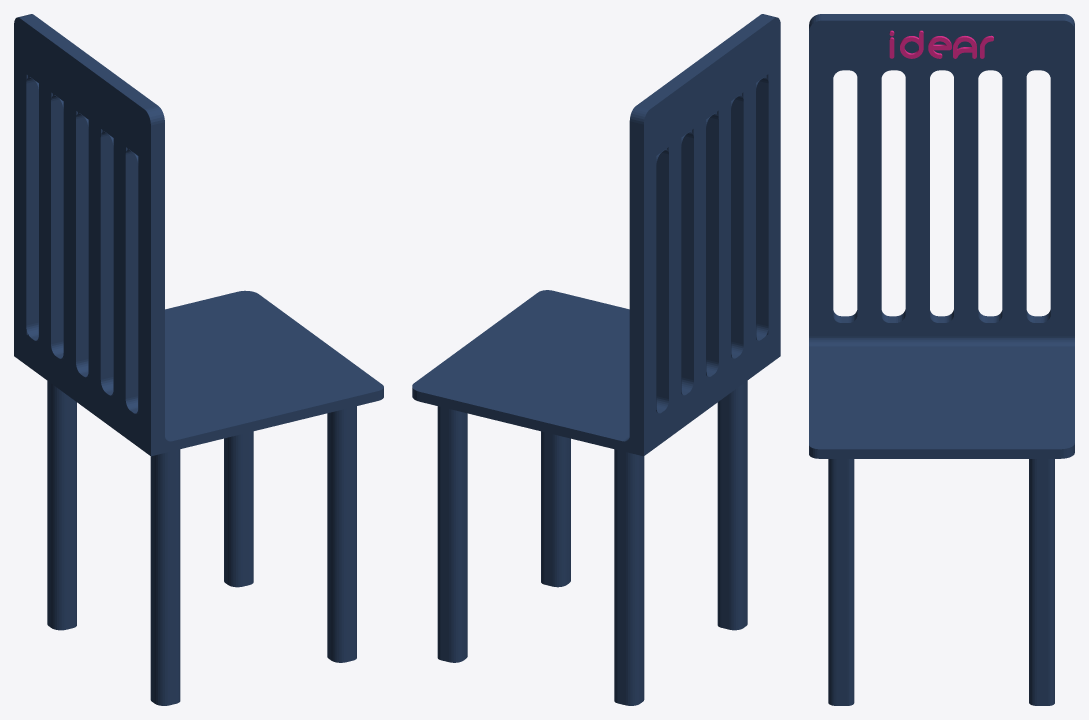
Rendered from Chair 5.fbx.
The picture shows the model from 3 angles, left to right: view 1: azimuth 30°, elevation 25°; view 2: azimuth 150°, elevation 25°; view 3: azimuth 270°, elevation 25°; orthographic projection. The views are drawn at different scales.
Visible parts, largest first — view 1: Text.010; view 2: Text.010; view 3: Text.010.
Boxes of the visible parts, x1,y1,x2,y2 form: Text.010: (14, 14, 383, 705); Text.010: (412, 14, 780, 705); Text.010: (809, 14, 1074, 705).
Bounding box in the file's own units: 65.48 × 160 × 65.39.
